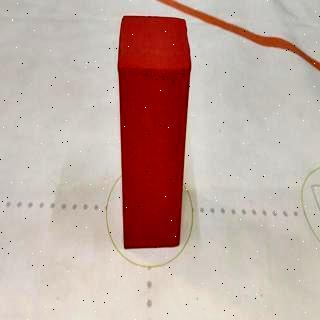redbox: (117, 14, 192, 251)
